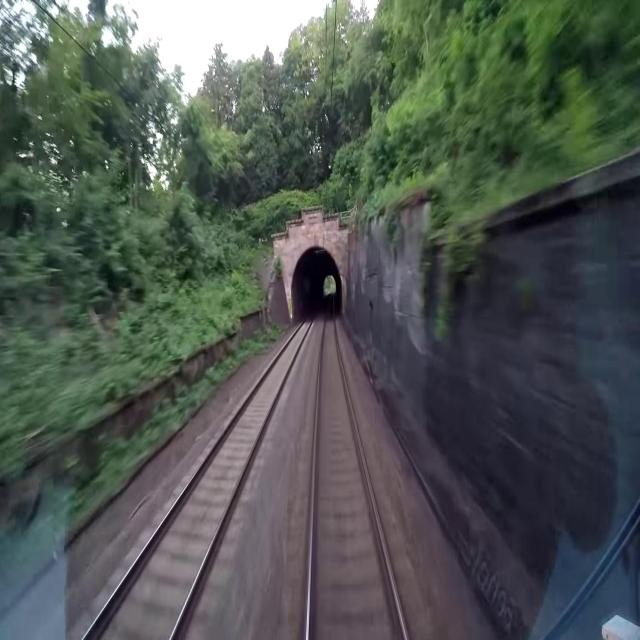rail-track: (87, 306, 318, 639), (310, 295, 404, 639)
